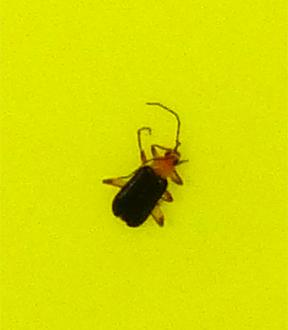Coleoptera: (100, 100, 188, 230)
